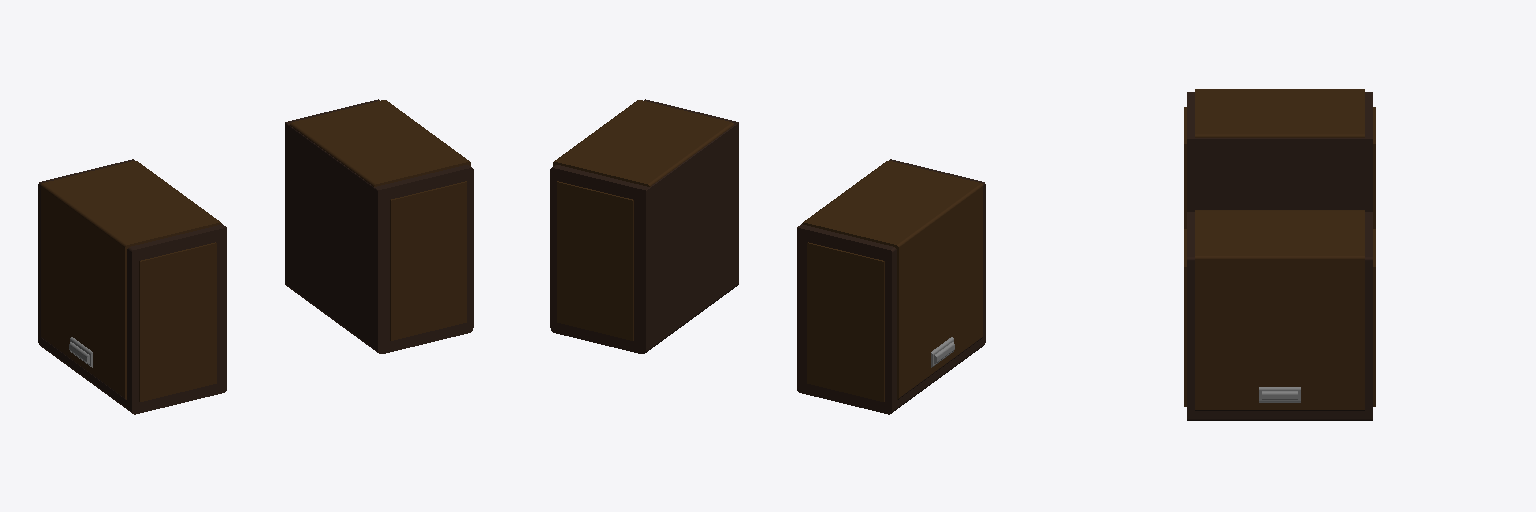
The model's file is saddlebags.obj.
3 renders of one model, left to right at view 1: azimuth 30°, elevation 25°; view 2: azimuth 150°, elevation 25°; view 3: azimuth 270°, elevation 25°, orthographic.
Visible parts, largest first — view 1: Mesh01, Mesh02; view 2: Mesh01, Mesh02; view 3: Mesh01, Mesh02.
Boxes of the visible parts, box(x1,y1,x2,y2) form: Mesh01: box(285, 99, 473, 353); Mesh02: box(38, 159, 226, 414); Mesh01: box(550, 99, 738, 353); Mesh02: box(797, 159, 985, 414); Mesh01: box(1184, 210, 1375, 420); Mesh02: box(1184, 89, 1375, 228).
Size of the model in its own units: 1.91 by 0.8593 by 0.89.